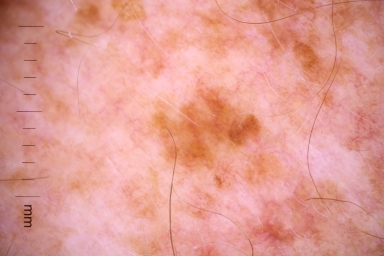melanoma: (159, 101, 258, 172), (293, 37, 324, 80)
